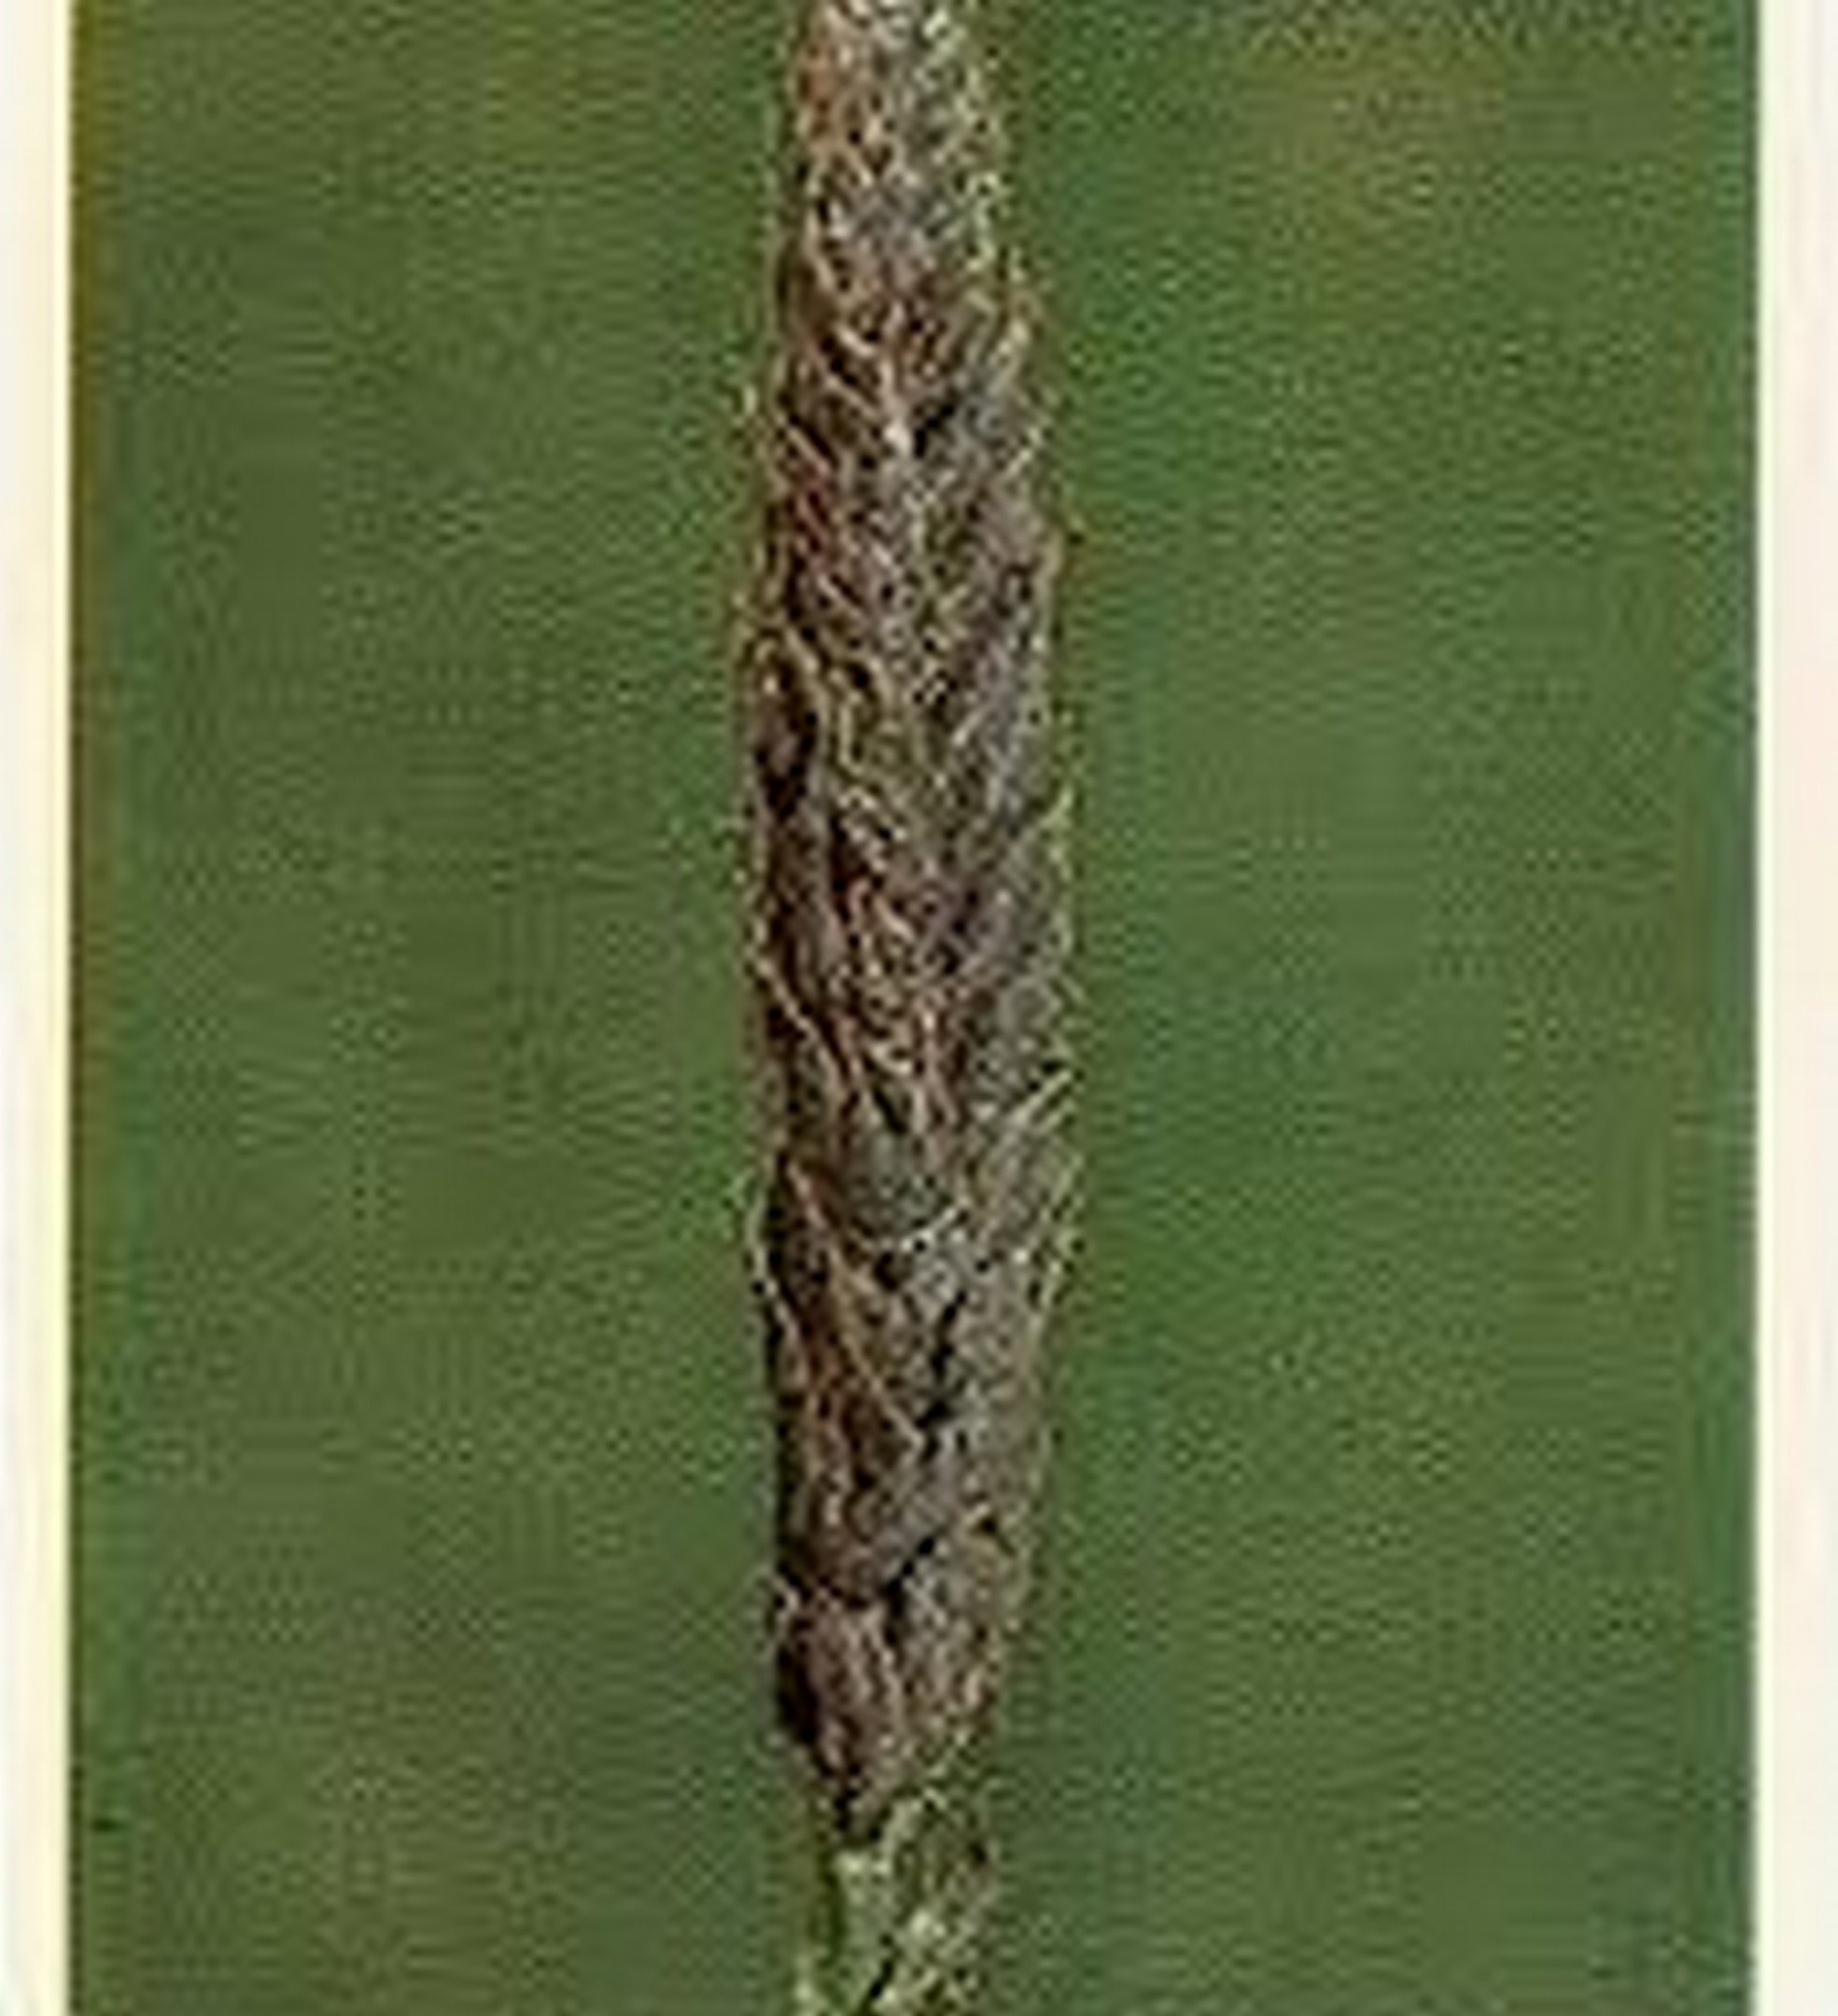Wheat Loose Smut: (664, 51, 1172, 1761)
